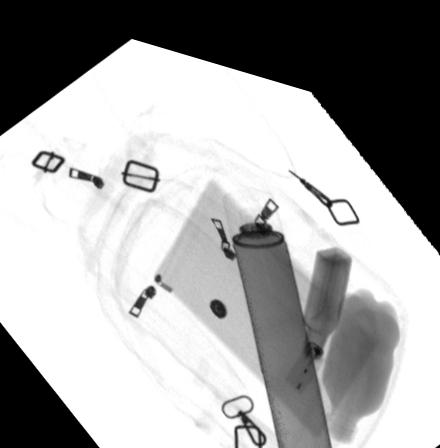Lighter: (283, 317, 329, 375)
Sprayer: (221, 173, 334, 448)
